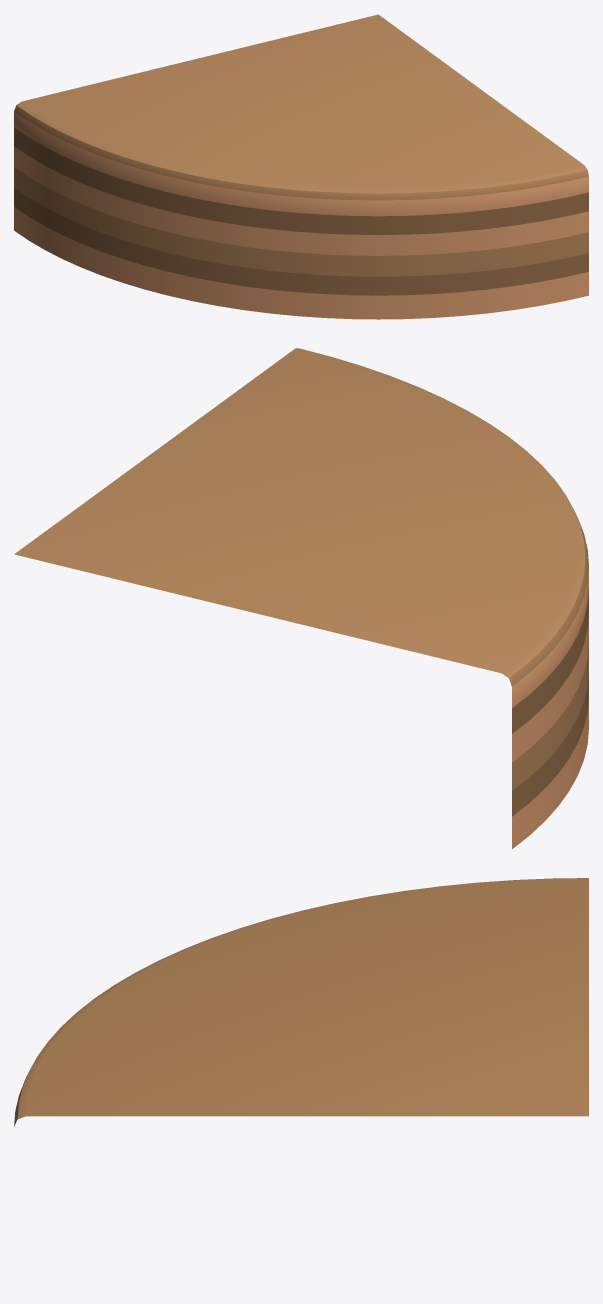
File: platform_dirt_corner_round3_tall.gltf
The picture shows the model from 3 angles, top to bottom: view 1: azimuth 30°, elevation 25°; view 2: azimuth 150°, elevation 25°; view 3: azimuth 270°, elevation 25°; orthographic projection. The views are drawn at different scales.
Parts seen in each view (by area): view 1: Cube_Dirt_Corner_Round3_Tall; view 2: Cube_Dirt_Corner_Round3_Tall; view 3: Cube_Dirt_Corner_Round3_Tall.
Boxes of the visible parts, bbox=[...] form: Cube_Dirt_Corner_Round3_Tall: bbox=[14, 14, 588, 319]; Cube_Dirt_Corner_Round3_Tall: bbox=[14, 348, 588, 849]; Cube_Dirt_Corner_Round3_Tall: bbox=[14, 878, 588, 1126].
Bounding box in the file's own units: 6 × 2 × 6.
